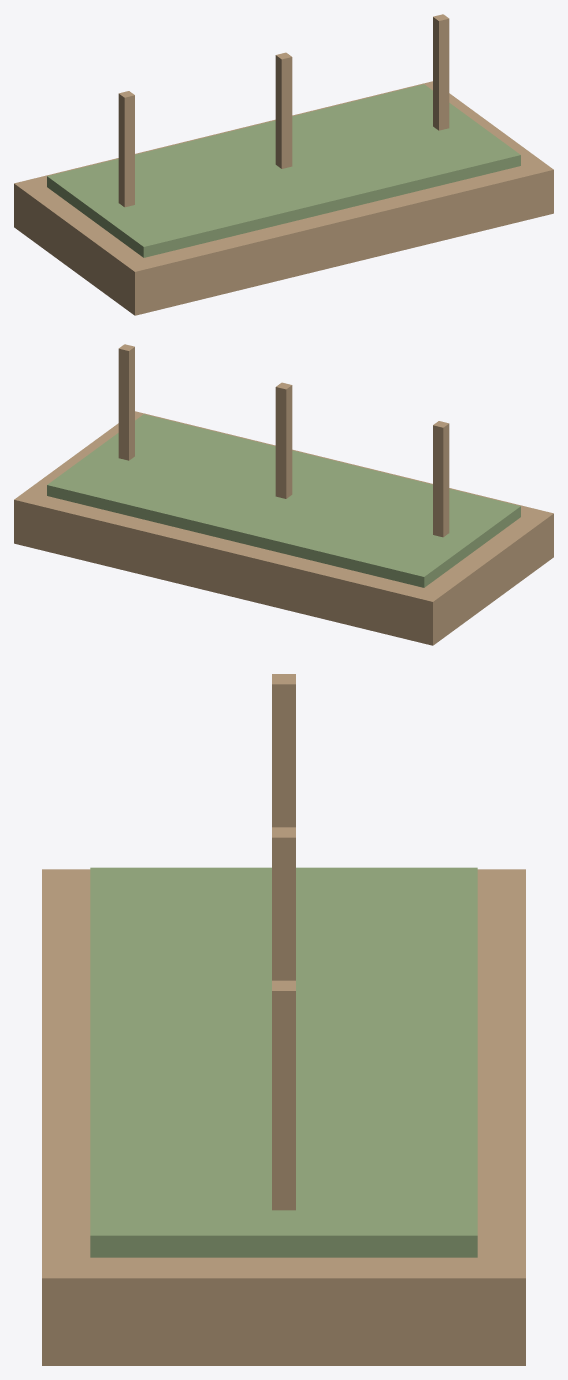
Rendered from voxel-city-districts-roof-garden-bed-aea5220e__24926.glb.
3 views of the same model, one above another, from view 1: azimuth 30°, elevation 25°; view 2: azimuth 150°, elevation 25°; view 3: azimuth 270°, elevation 25° (orthographic). The views are drawn at different scales.
Visible parts, largest first — view 1: roof-garden-bed-green, roof-garden-bed-wood; view 2: roof-garden-bed-green, roof-garden-bed-wood; view 3: roof-garden-bed-green, roof-garden-bed-wood.
Part boxes in pixels (box(x1,y1,x2,y2)): roof-garden-bed-green: box(47, 84, 520, 257); roof-garden-bed-wood: box(14, 14, 553, 315); roof-garden-bed-green: box(47, 414, 520, 587); roof-garden-bed-wood: box(14, 344, 553, 645); roof-garden-bed-green: box(90, 867, 477, 1257); roof-garden-bed-wood: box(42, 674, 525, 1365).
Size of the model in its own units: 4 by 1.5 by 2.
